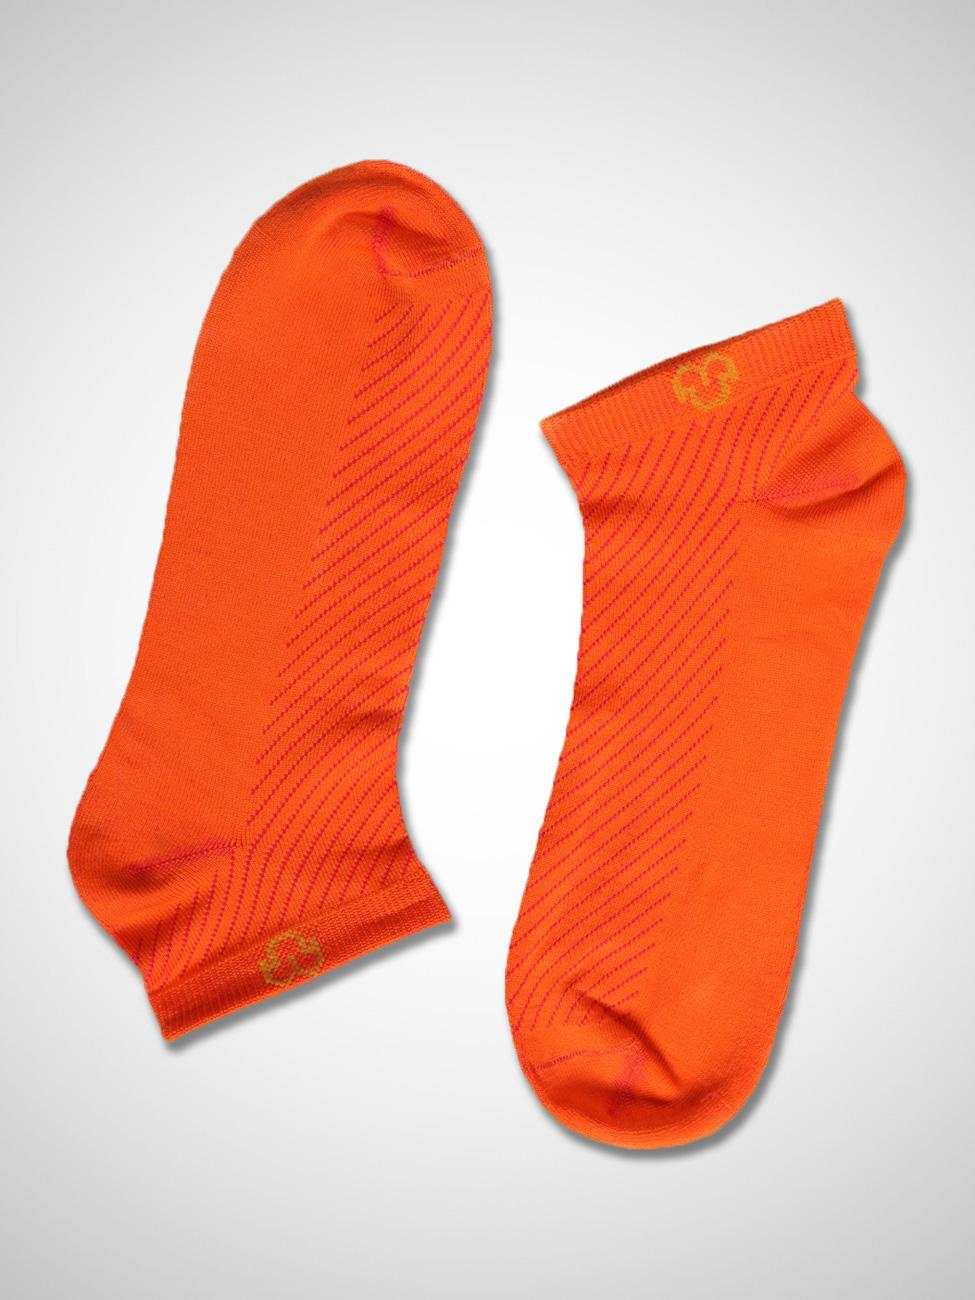flexible: (60, 150, 489, 1052), (502, 300, 917, 1159)
